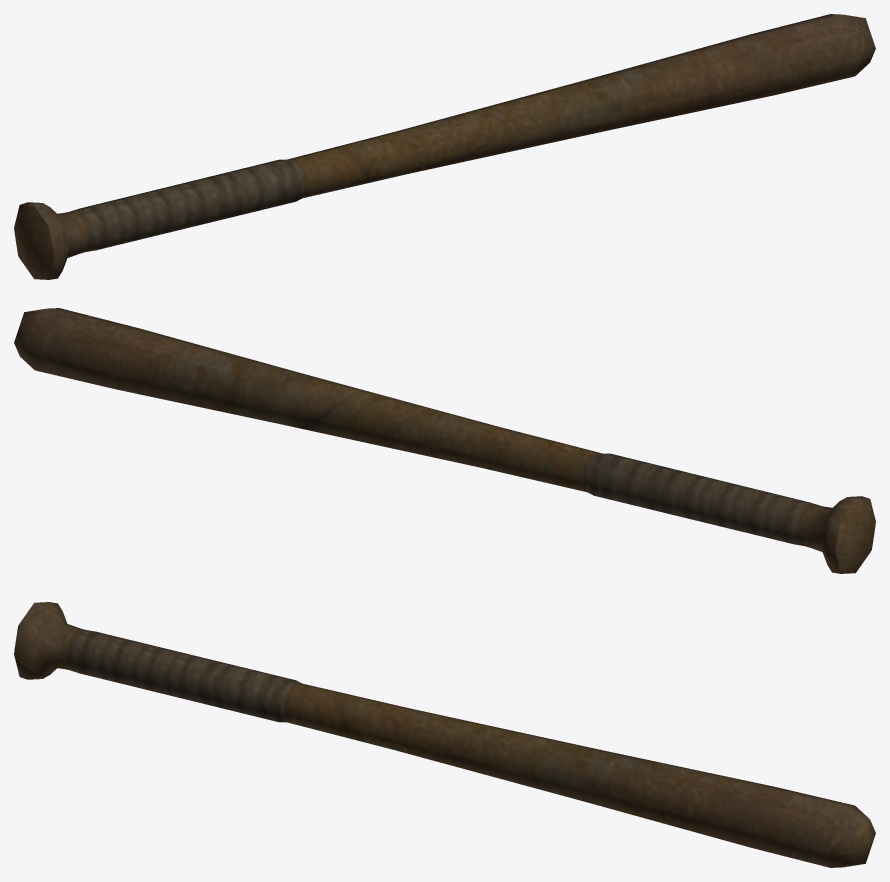
Rendered from baseball_bat_mx_1.obj.
3 renders of one model, top to bottom at view 1: azimuth 30°, elevation 25°; view 2: azimuth 150°, elevation 25°; view 3: azimuth 330°, elevation 25°, orthographic.
Visible parts, largest first — view 1: baseball_bat_mx_1; view 2: baseball_bat_mx_1; view 3: baseball_bat_mx_1.
Boxes of the visible parts, x1,y1,x2,y2 form: baseball_bat_mx_1: [14, 14, 875, 279]; baseball_bat_mx_1: [14, 308, 875, 573]; baseball_bat_mx_1: [14, 602, 875, 867].
Bounding box in the file's own units: 1.24 × 0.1053 × 0.1053.
